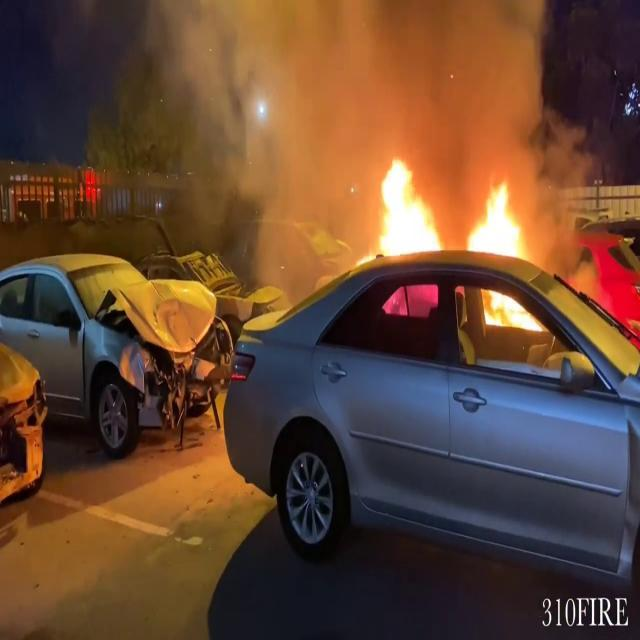Fire: (356, 152, 444, 268), (464, 173, 535, 263), (478, 285, 545, 335)
Smoke: (0, 0, 566, 213)
